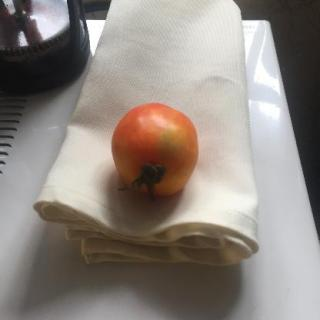Tomat: (93, 97, 212, 203)
